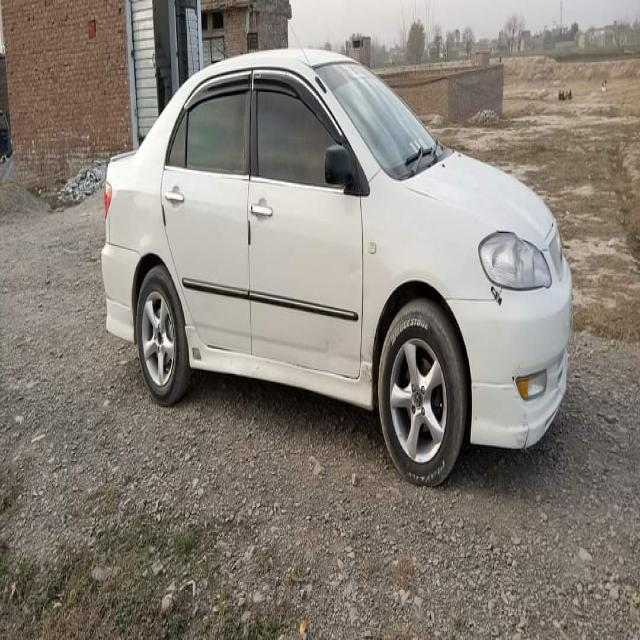white: (104, 42, 572, 448)
